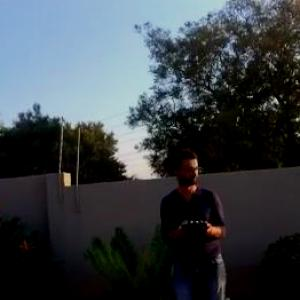follow: (157, 138, 235, 299)
